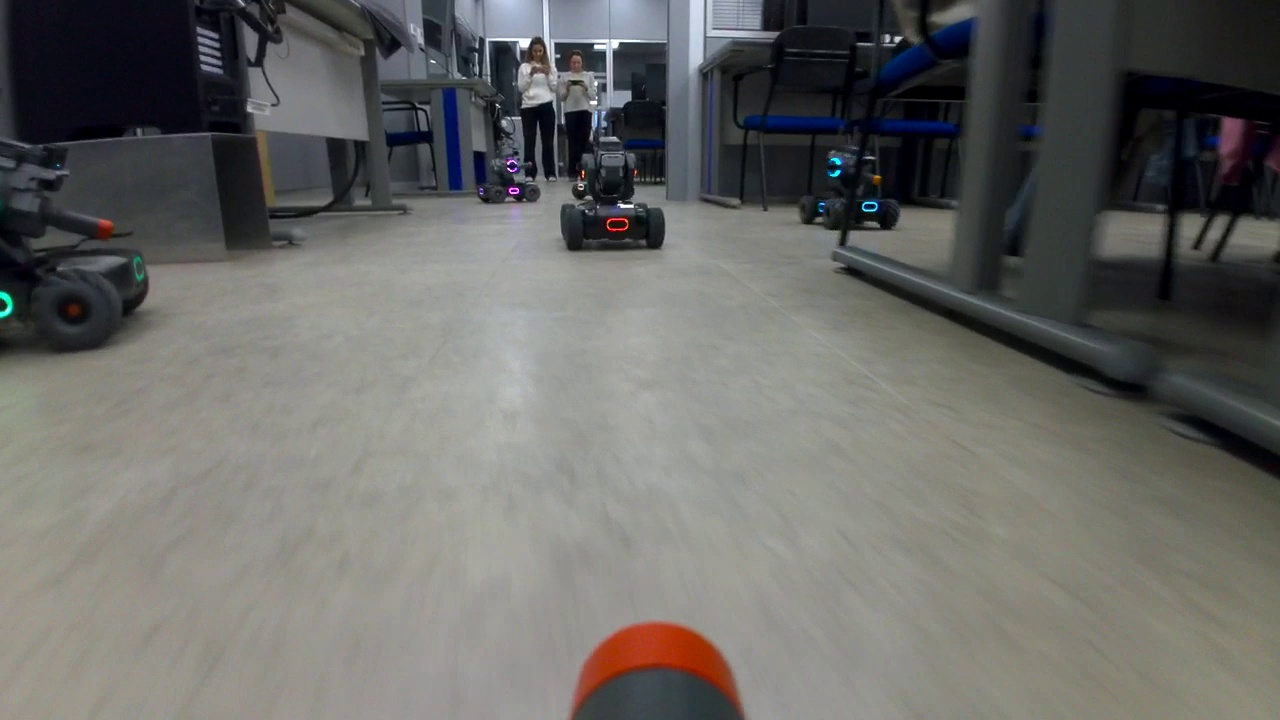robot: (1, 137, 154, 360), (560, 136, 670, 253), (796, 147, 902, 232), (476, 151, 542, 204)
